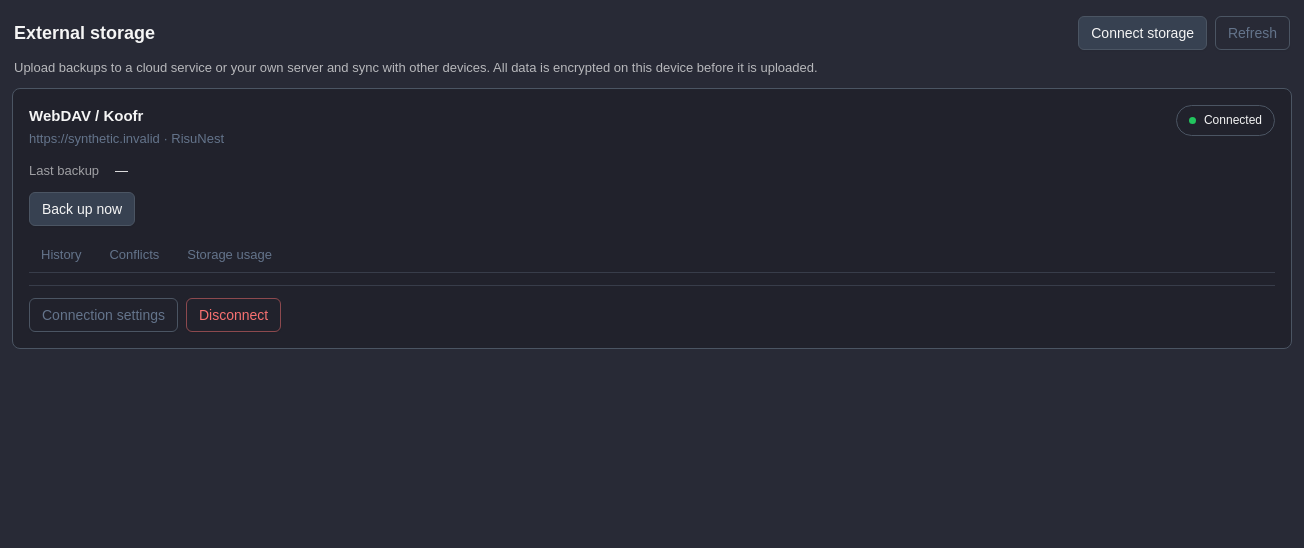
the storage usage tab › rechecks an unconfirmed remote point before offering destructive conflict choices
What coordinates should you click on to do the following:
click the tab "Conflicts"
I would click on:
 (134, 256)
Its box is 98,238 -> 171,273.
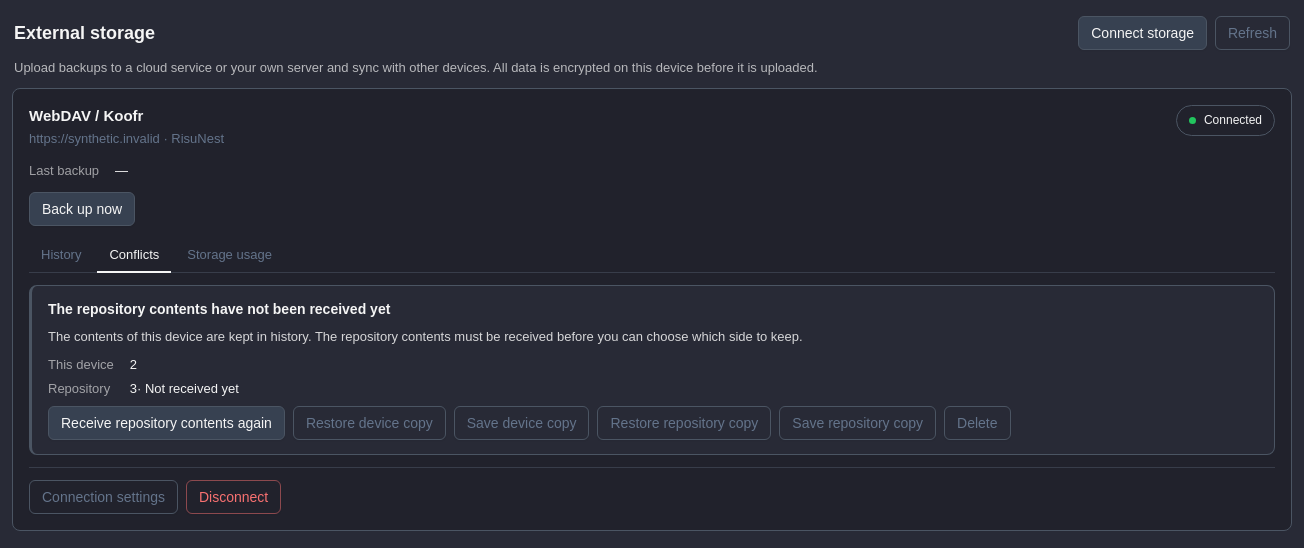
Expected: the text "Keep this device" is not shown
Expected: the button "Receive repository contents again" is shown
What coordinates should you click on to do the following:
click the button "Receive repository contents again"
I would click on:
 (166, 423)
Its box is 48,406 -> 285,440.
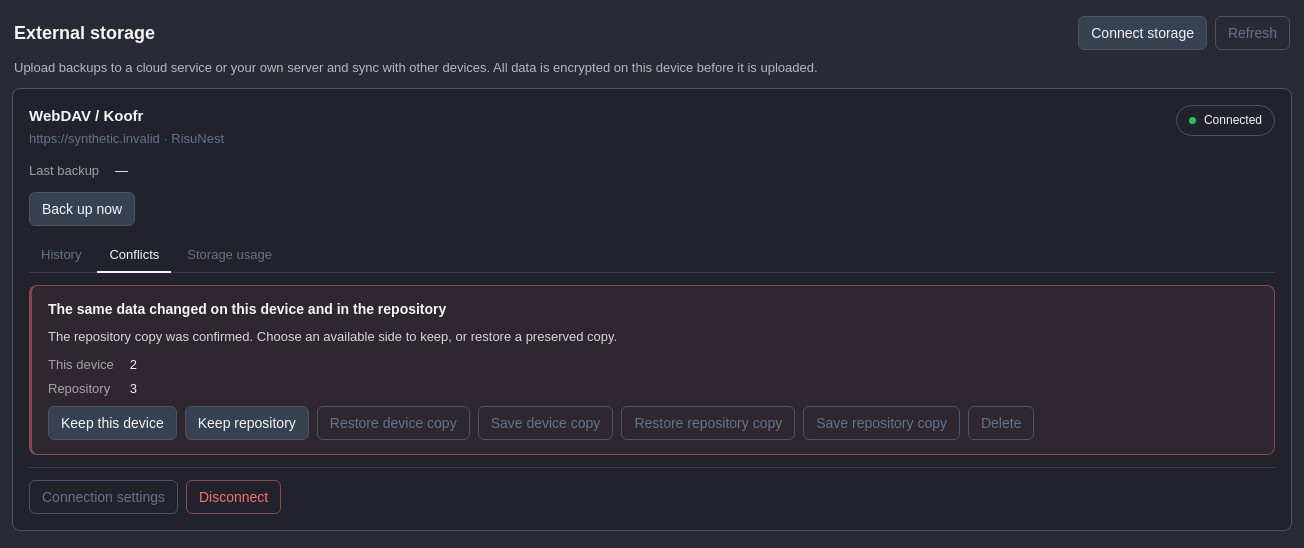
Expected: the text "Save device copy" is shown, 478,406 -> 613,440
Expected: the text "Keep this device" is shown, 48,406 -> 177,440
Expected: the text "Keep repository" is shown, 185,406 -> 309,440
